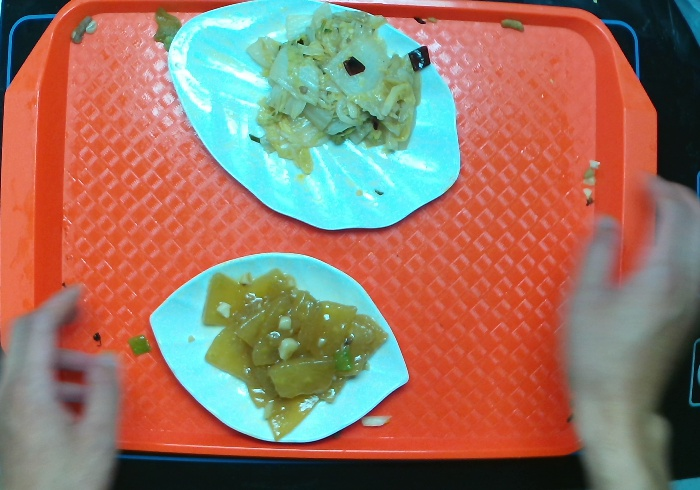RJxy-Bai_Ye_Pan: (163, 1, 465, 235)
RJxy-Da_Du_Pan: (143, 248, 416, 446)
